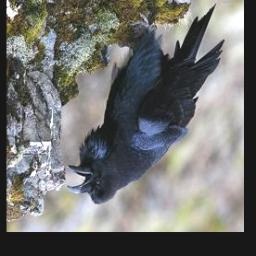Crow: (66, 2, 224, 206)
